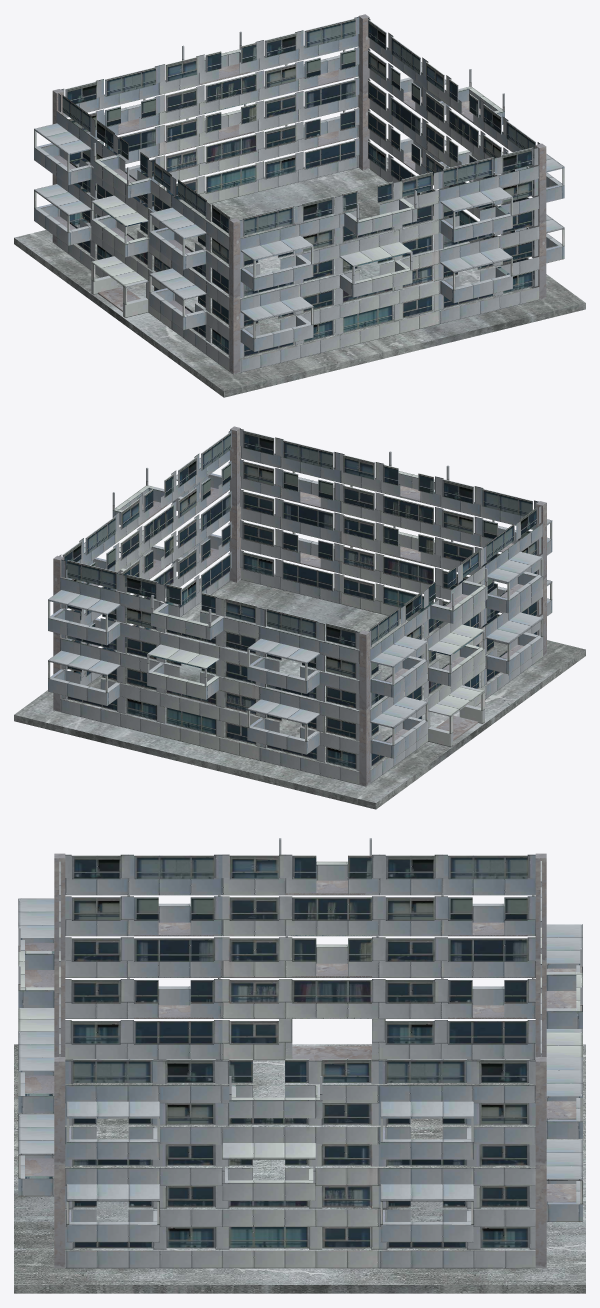
File: BagSS06base_300.fbx
3 views of the same model, one above another, from view 1: azimuth 30°, elevation 25°; view 2: azimuth 150°, elevation 25°; view 3: azimuth 270°, elevation 25° (orthographic). The views are drawn at different scales.
Visible parts, largest first — view 1: basemain200, baseBase200, basebalc200, basebeams200; view 2: basemain200, baseBase200, basebalc200, basebeams200; view 3: basemain200, baseBase200, basebalc200, basebeams200.
Boxes of the visible parts, left/top/right/bottom form: basemain200: left=34, top=16, right=564, bottom=372; baseBase200: left=14, top=157, right=585, bottom=397; basebalc200: left=53, top=14, right=545, bottom=314; basebeams200: left=52, top=91, right=546, bottom=374; basemain200: left=48, top=429, right=552, bottom=784; baseBase200: left=14, top=573, right=585, bottom=809; basebalc200: left=54, top=426, right=546, bottom=742; basebeams200: left=53, top=503, right=546, bottom=786; basemain200: left=18, top=838, right=582, bottom=1268; baseBase200: left=14, top=1044, right=585, bottom=1293; basebalc200: left=25, top=853, right=576, bottom=1201; basebeams200: left=54, top=1061, right=546, bottom=1268.
Bounding box in the file's own units: 46.45 × 19.39 × 46.65.
